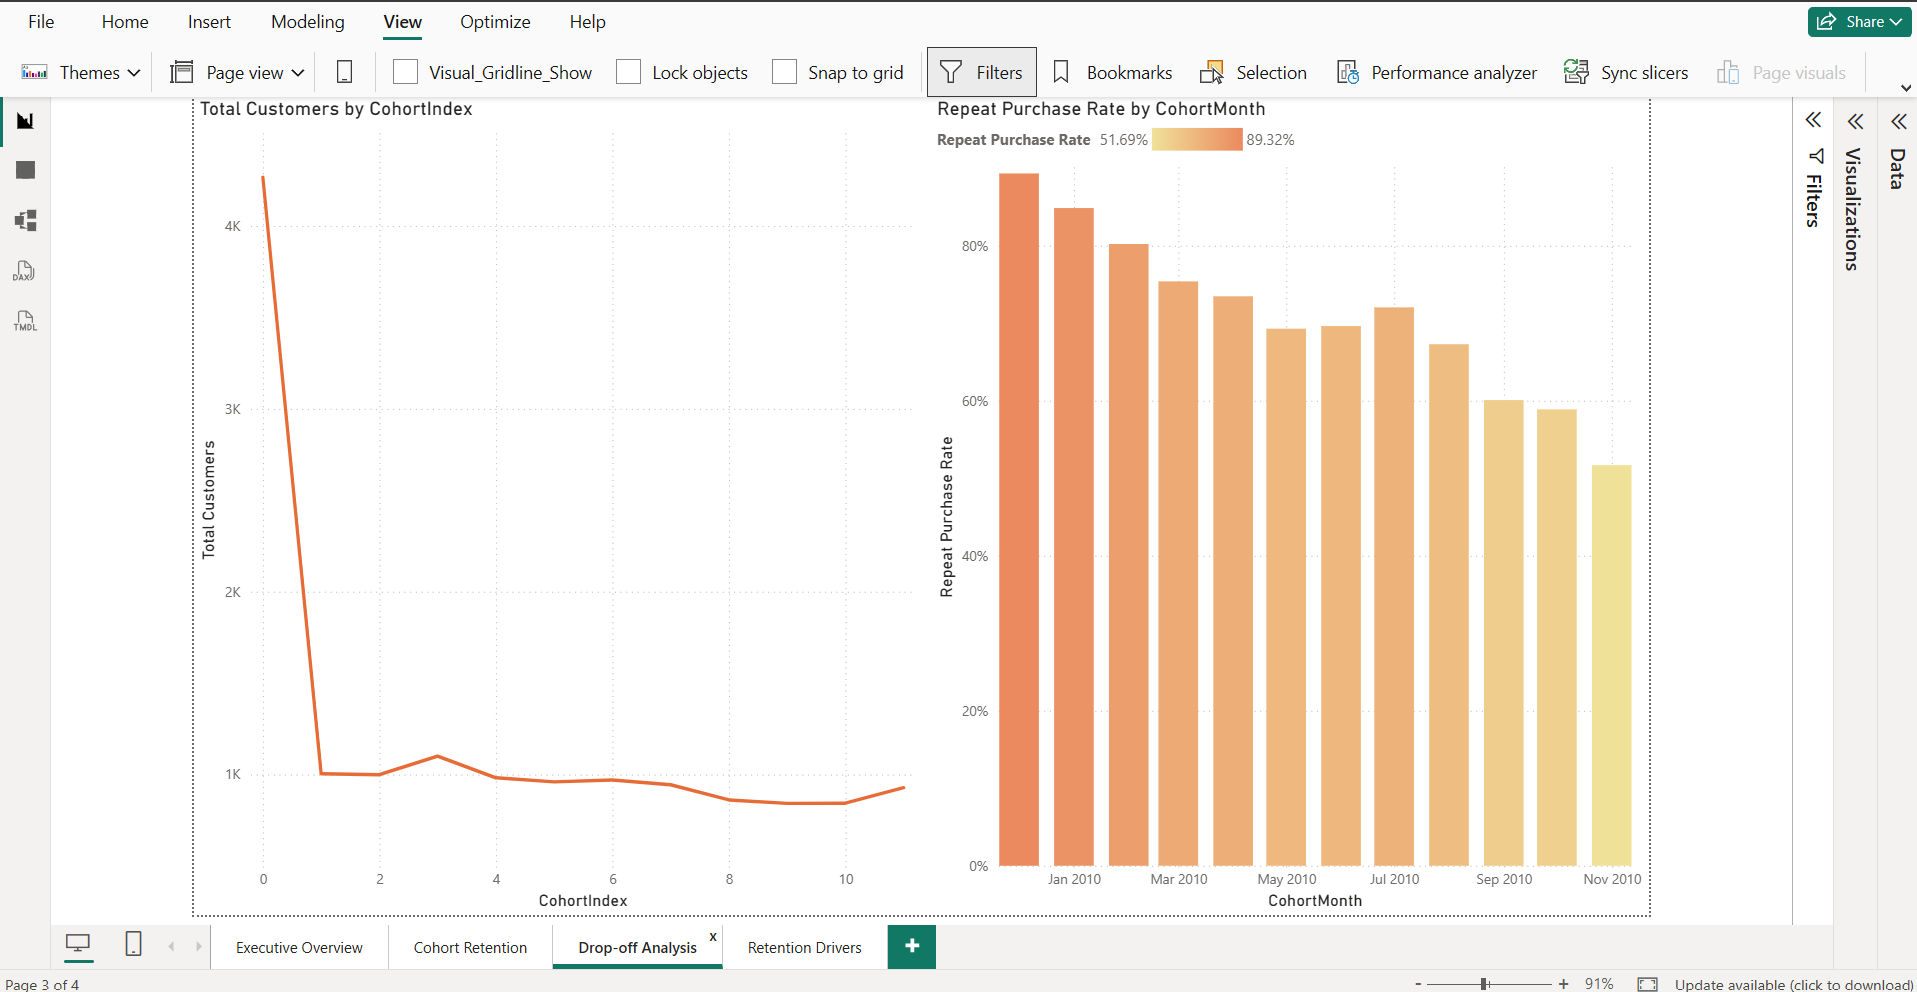

Layout of this report page (visuals, bound fields, positions):
{"tool":"powerbi","page":{"name":"Drop-off Analysis","canvas":[1280,720],"ordinal":2},"visuals":[{"type":"lineChart","fields":{"Category":["cleaned_ecommerce_orders.CohortIndex"],"Y":["cleaned_ecommerce_orders.Total Customers"]},"box":[0,0,639.5,720.4],"z":0},{"type":"clusteredColumnChart","fields":{"Y":["cleaned_ecommerce_orders.Repeat Purchase Rate"],"Category":["cleaned_ecommerce_orders.CohortMonth"]},"box":[649,0,631,720],"z":1}]}

Visuals, with their boxes on the page's 1280x720 design canvas (x1, y1, x2, y2). These are canvas units, not pixel positions in the 1917x992 screenshot, which may show the page scaled, cropped or inside an application window:
lineChart - cleaned_ecommerce_orders.CohortIndex x cleaned_ecommerce_orders.Total Customers: [0,0,640,720]
clusteredColumnChart - cleaned_ecommerce_orders.Repeat Purchase Rate x cleaned_ecommerce_orders.CohortMonth: [649,0,1280,720]
